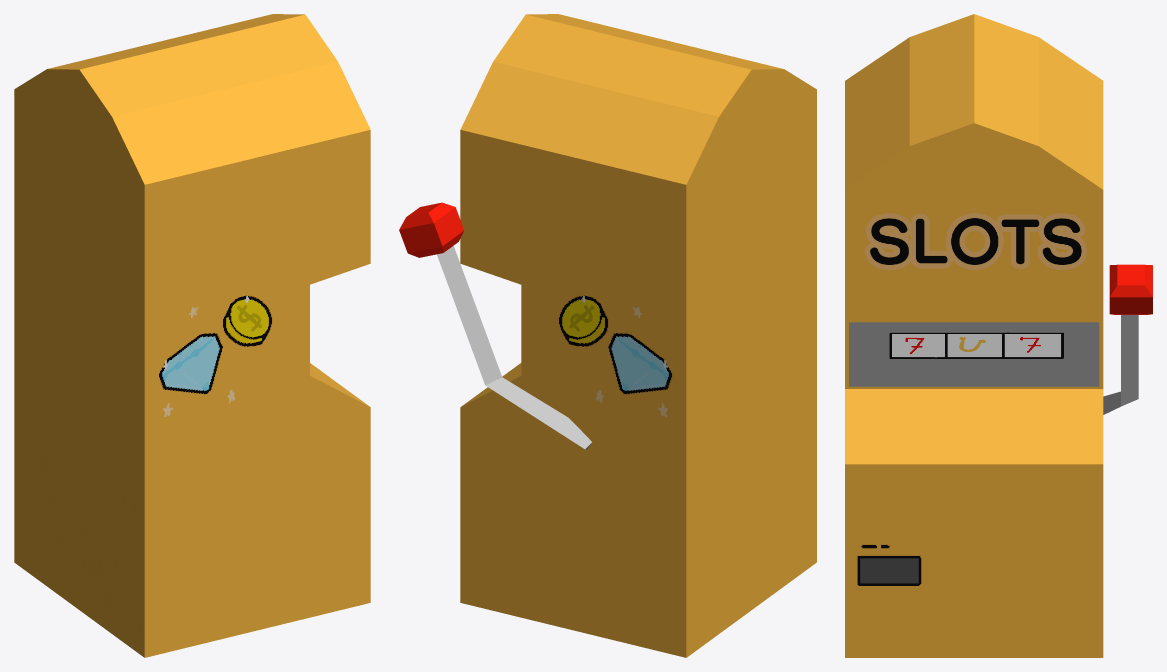
Rendered from slots.fbx.
3 views of the same model, side by side, from view 1: azimuth 30°, elevation 25°; view 2: azimuth 150°, elevation 25°; view 3: azimuth 270°, elevation 25° (orthographic).
Parts seen in each view (by area): view 1: Cylinder; view 2: Cylinder; view 3: Cylinder.
Part boxes in pixels (<box>): Cylinder: <box>14,14,370,657</box>; Cylinder: <box>399,14,816,657</box>; Cylinder: <box>845,14,1152,657</box>.
Size of the model in its own units: 464 by 914 by 477.
